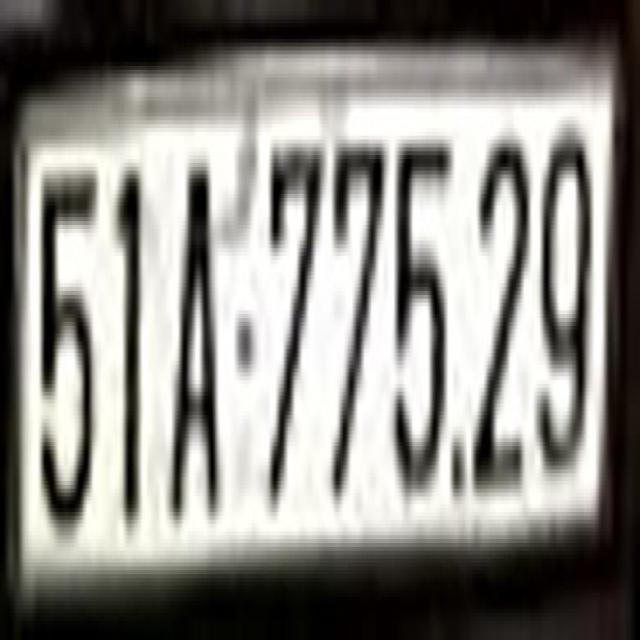1: (114, 162, 140, 536)
2: (474, 124, 528, 500)
5: (392, 132, 453, 516), (35, 166, 95, 532)
7: (265, 128, 323, 520), (332, 128, 386, 508)
9: (536, 128, 591, 485)
A: (170, 143, 222, 516)
